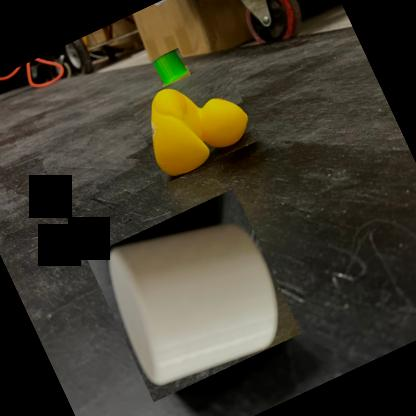duck: (128, 59, 261, 184)
green cylinder: (152, 47, 192, 87)
white cylinder: (86, 188, 302, 402)
